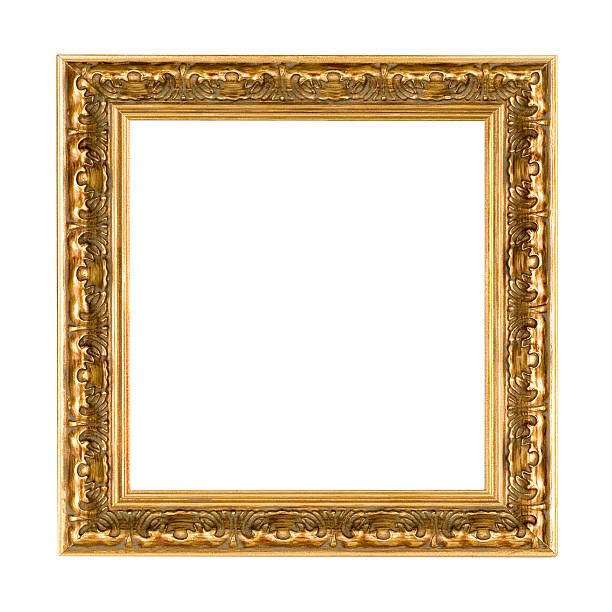kare: (54, 48, 560, 557)
